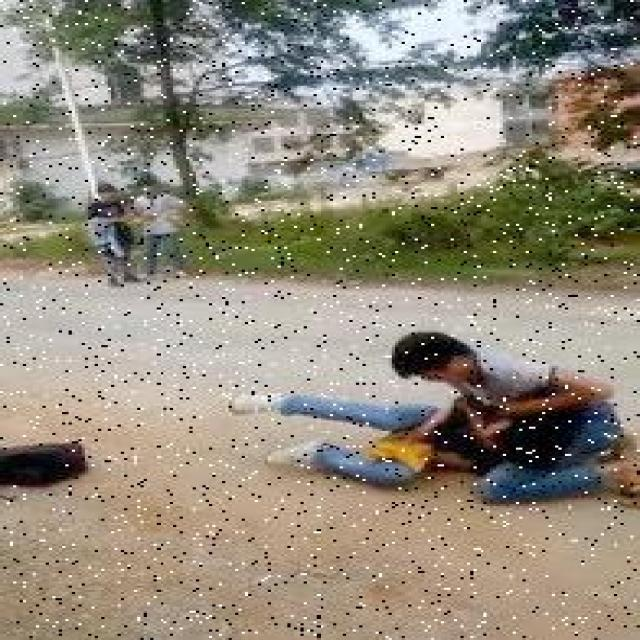fall: (226, 389, 594, 483)
